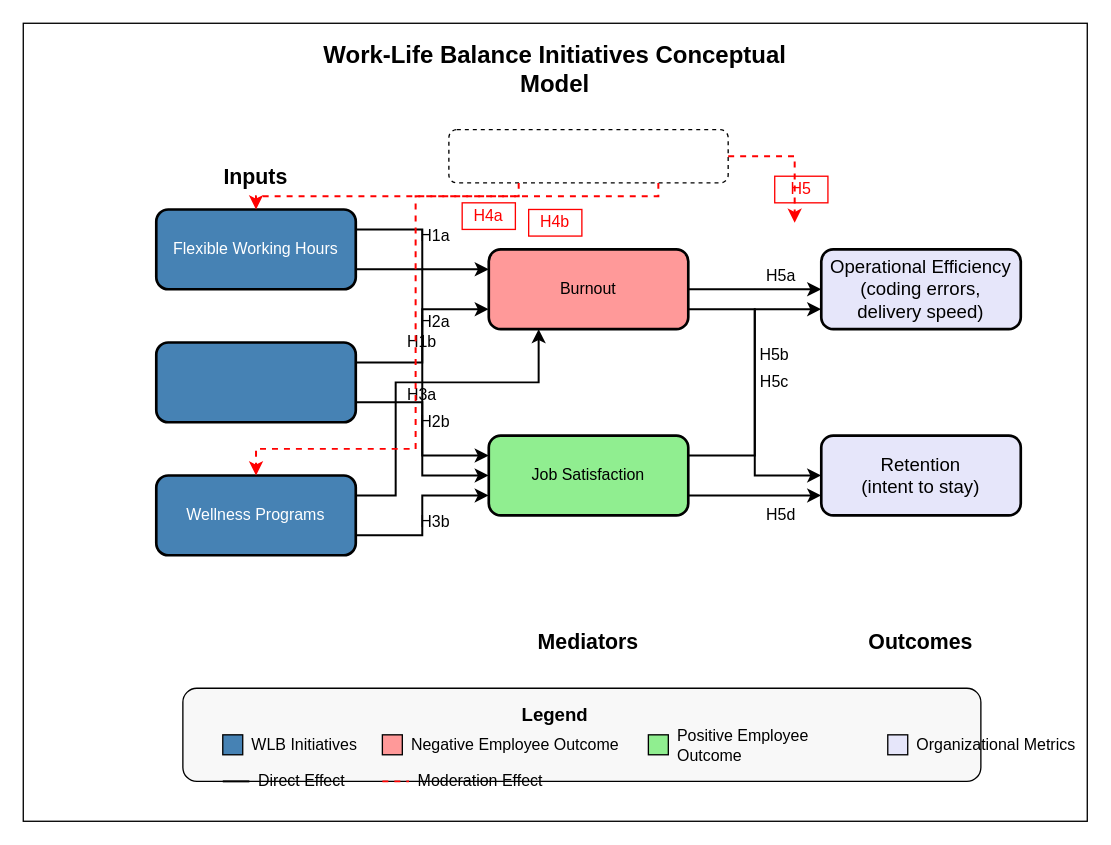
This 1111x845 diagram has some shape labels left out. The shapes that lost their labels are listed below. From the top down, each one's box as (x1, y1, x2, y2) in pixels, then its label:
(448, 128, 728, 183): Gender Moderation
(154, 340, 356, 423): Remote Work Options
